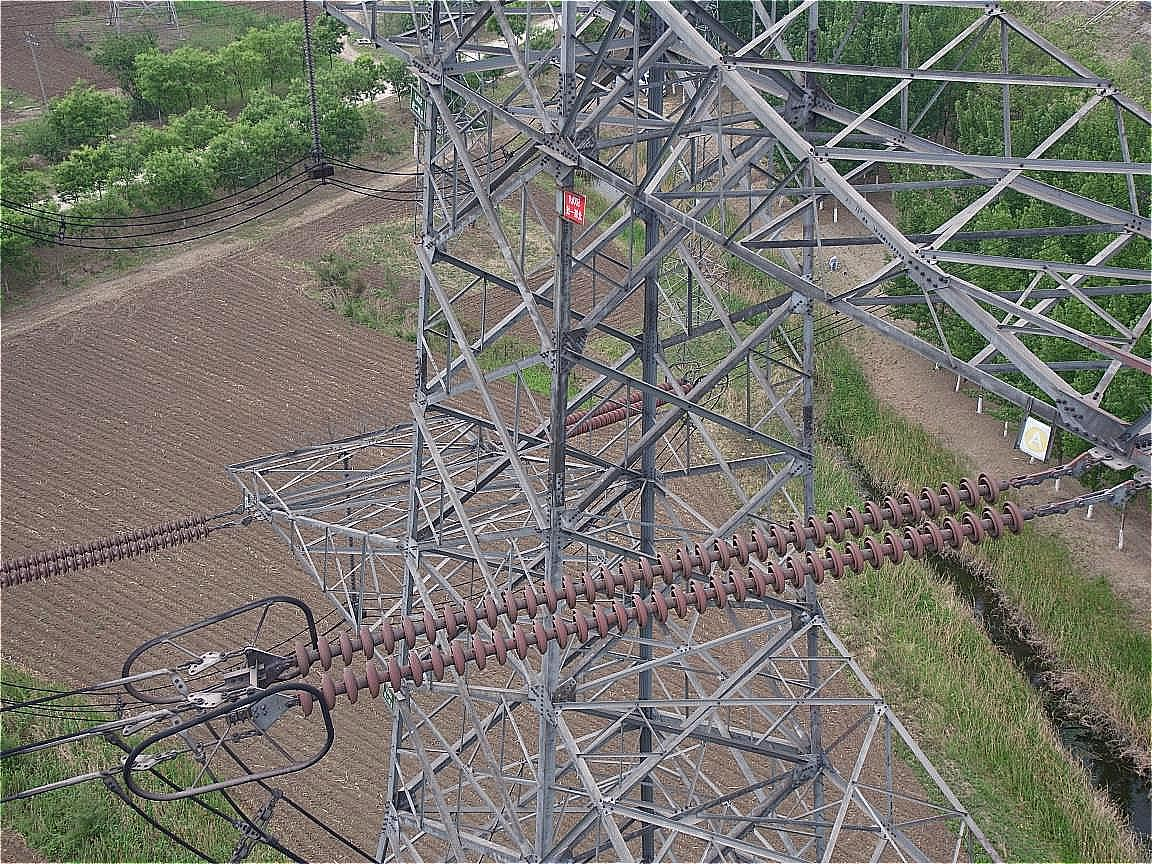insultor1: (296, 471, 1023, 715)
insultor2: (3, 514, 211, 594)
